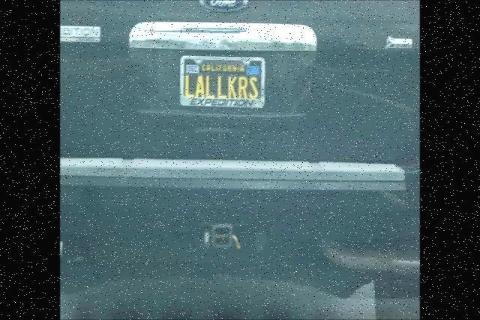LicensePlate: (176, 49, 277, 118)
